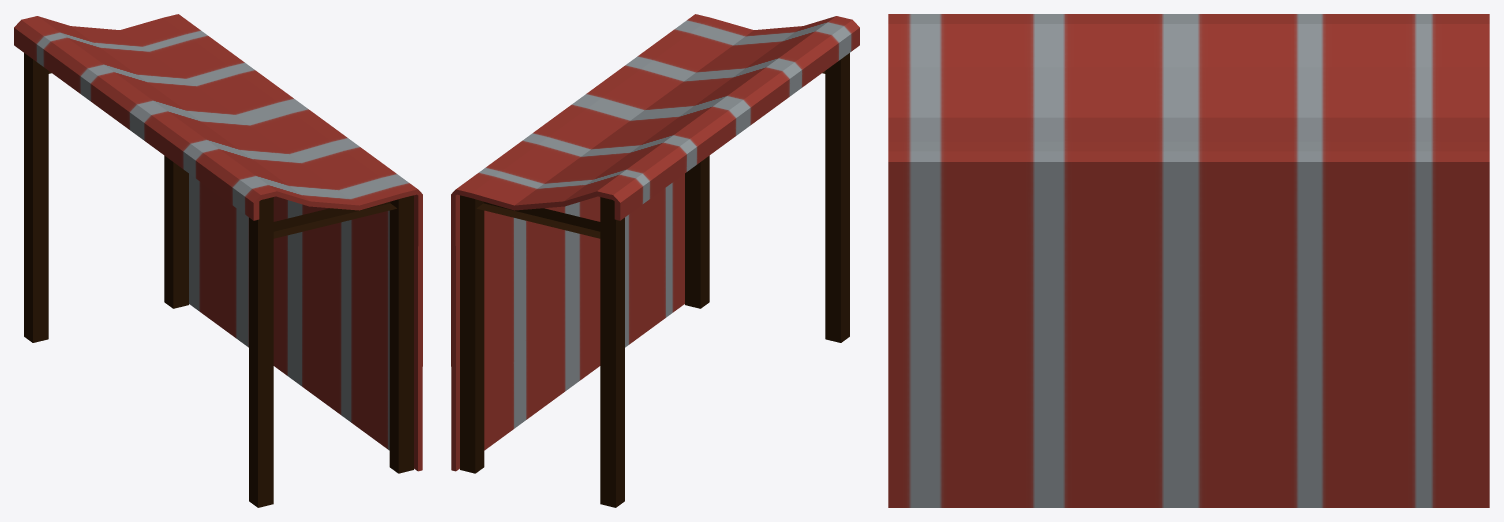
The model's file is EmptyStall.glb.
3 views of the same model, side by side, from view 1: azimuth 30°, elevation 25°; view 2: azimuth 150°, elevation 25°; view 3: azimuth 270°, elevation 25° (orthographic). The views are drawn at different scales.
Visible parts, largest first — view 1: EmptyStall; view 2: EmptyStall; view 3: EmptyStall.
Part boxes in pixels (<box>): EmptyStall: <box>14,14,422,507</box>; EmptyStall: <box>451,14,859,507</box>; EmptyStall: <box>888,14,1489,507</box>.
Bounding box in the file's own units: 1.09 × 1.93 × 2.66.
Materials: 2 (1 with a texture image).
